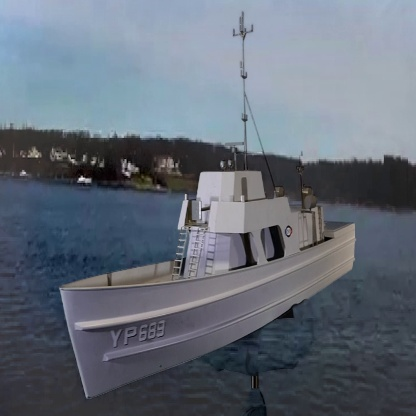YP689: (59, 16, 357, 401)
